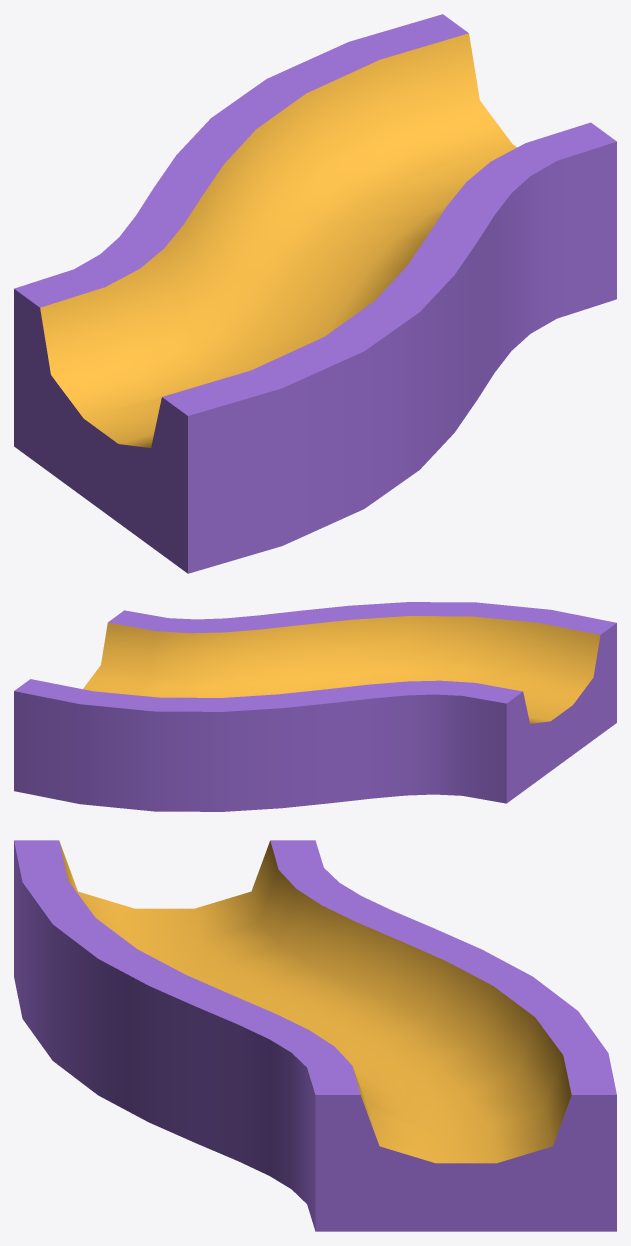
File: s-curve-short-left-c-col.glb
3 views of the same model, one above another, from view 1: azimuth 30°, elevation 25°; view 2: azimuth 150°, elevation 25°; view 3: azimuth 270°, elevation 25° (orthographic). The views are drawn at different scales.
Parts seen in each view (by area): view 1: s-curve-short-left-c-col; view 2: s-curve-short-left-c-col; view 3: s-curve-short-left-c-col.
Part boxes in pixels (x1,y1,x2,y2): s-curve-short-left-c-col: (14,14,616,573); s-curve-short-left-c-col: (14,602,616,811); s-curve-short-left-c-col: (14,840,616,1231).
Bounding box in the file's own units: 2 × 0.5 × 2.
Materials: 1 (1 with a texture image).
